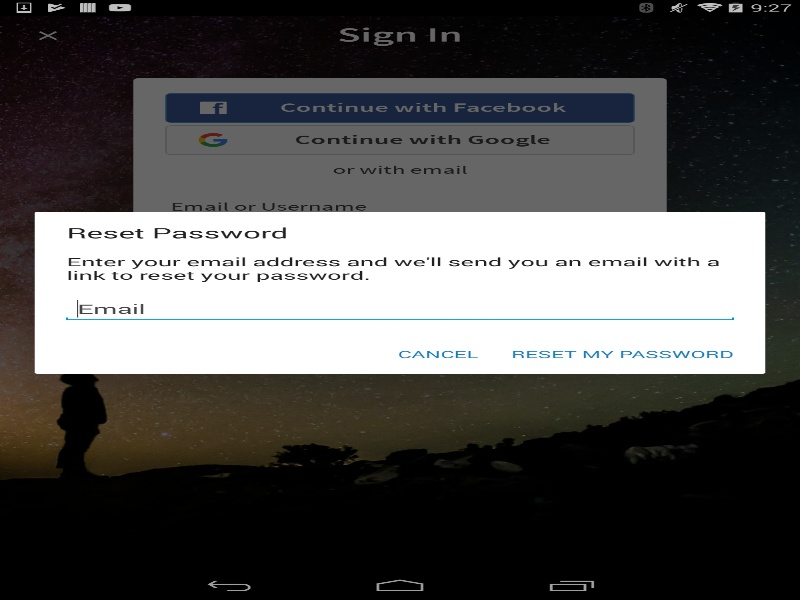Button: (494, 337, 749, 371), (382, 337, 494, 371)
Input: (61, 295, 738, 322)
